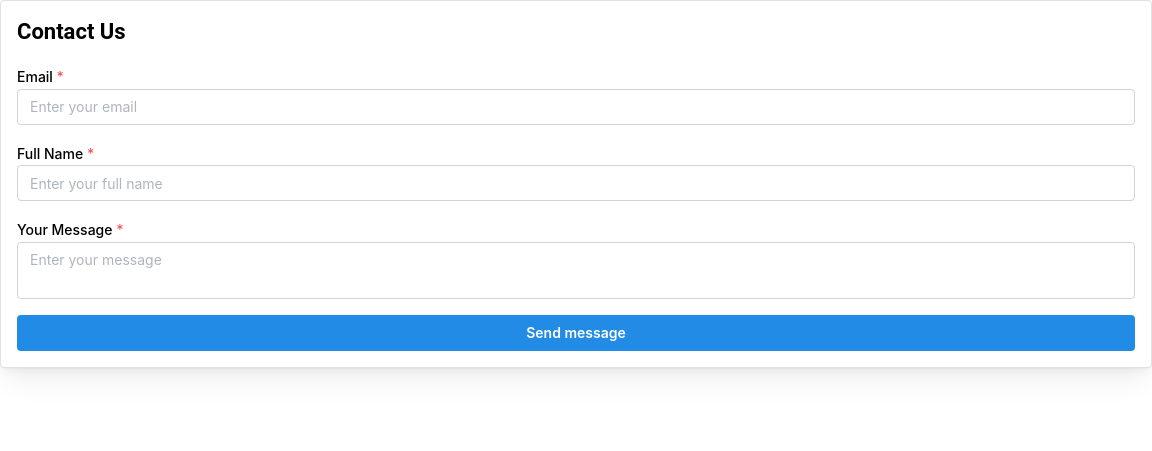
Test case: <ContactForm/> › Handling submit test › should not send message if no input data and it will show errors
Click the button "Send message": point(576, 333) left=17, top=315, right=1135, bottom=351
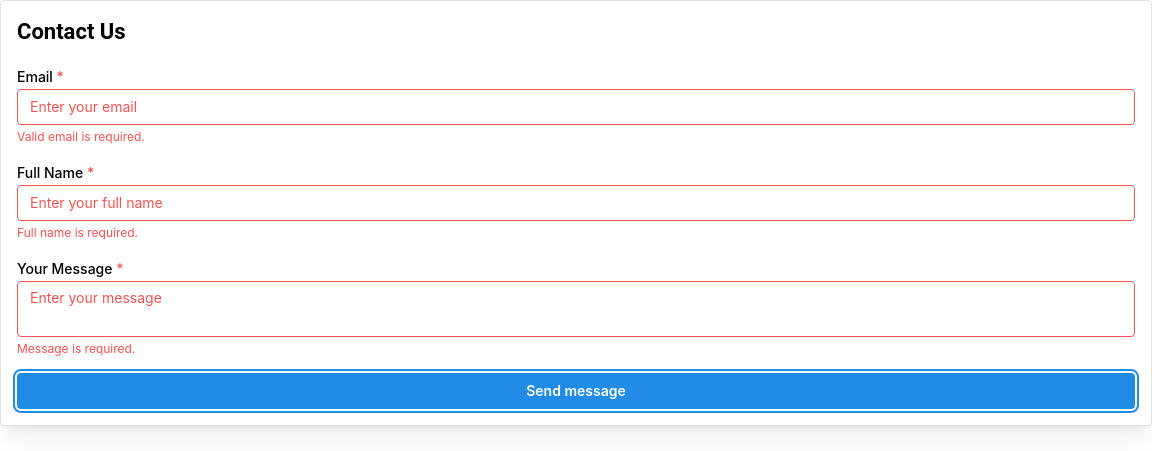
Result: the text "Valid email is required." is shown at left=17, top=129, right=145, bottom=144
Result: the text "Full name is required." is shown at left=17, top=225, right=138, bottom=240
Result: the text "Message is required." is shown at left=17, top=341, right=135, bottom=356
